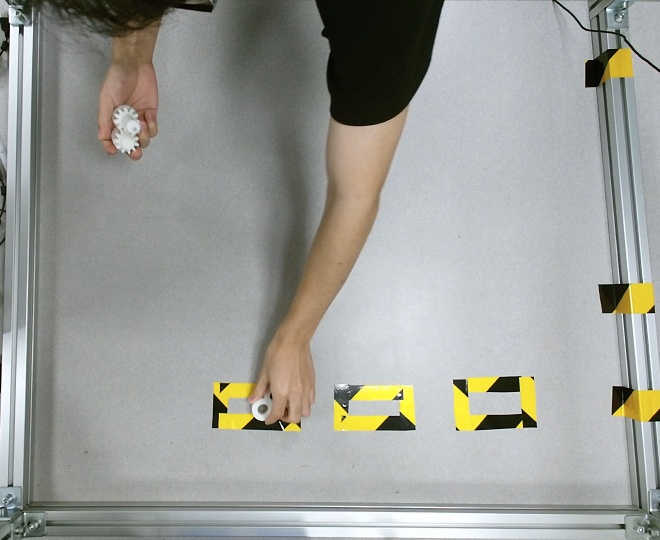stage_3: (111, 105, 141, 154)
